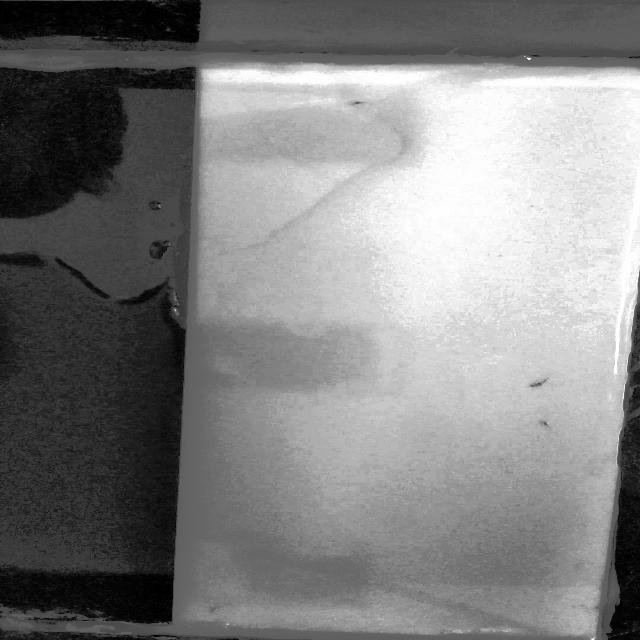shrimp: (524, 377, 552, 392), (203, 605, 227, 616), (535, 420, 559, 430), (346, 98, 370, 105)
